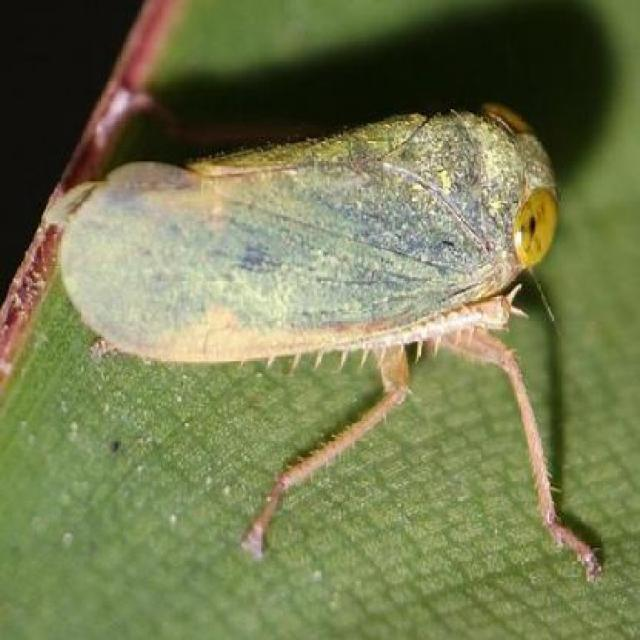green-leafhopper: (46, 98, 596, 577)
